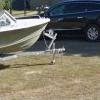Boat: (0, 7, 56, 60)
